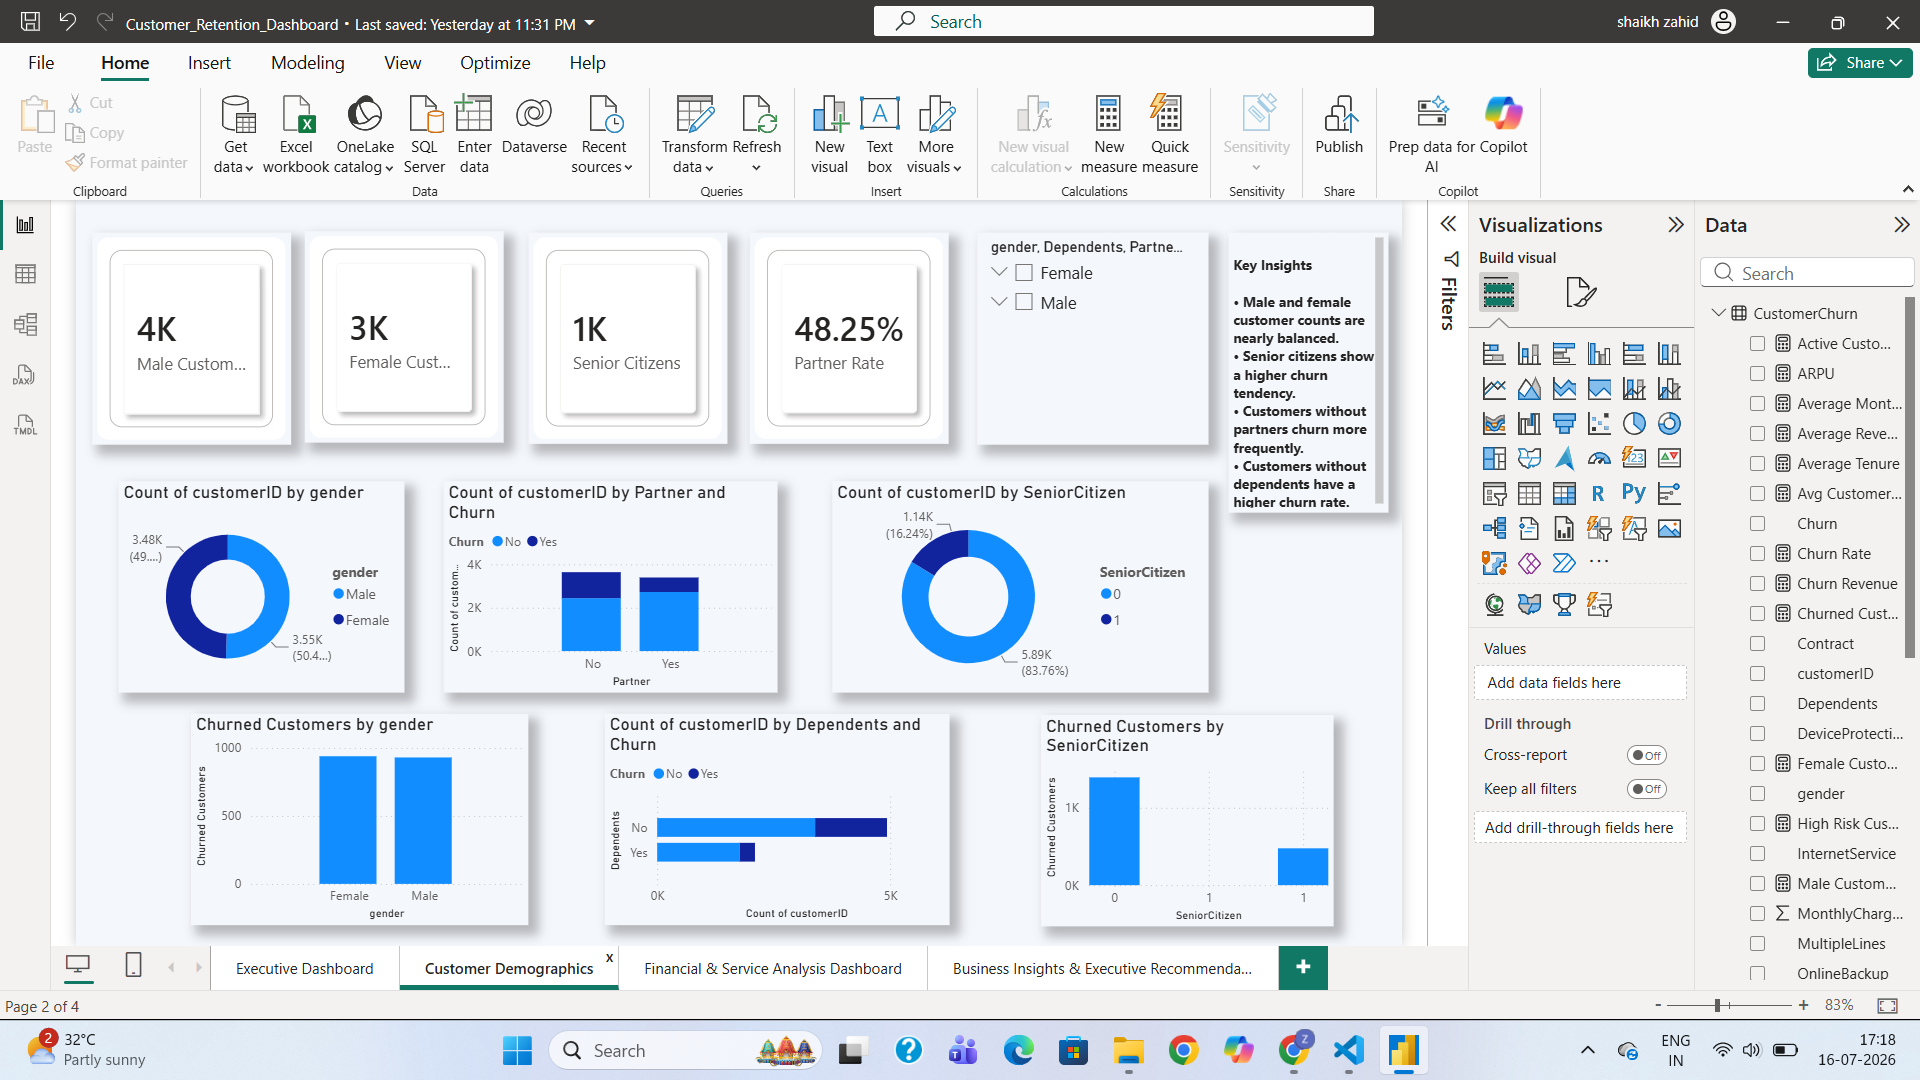

Layout of this report page (visuals, bound fields, positions):
{"tool":"powerbi","page":{"name":"Customer Demographics","canvas":[1280,720],"ordinal":1},"visuals":[{"type":"cardVisual","fields":{"Data":["CustomerChurn.Male Customers"]},"box":[14.7,30.6,192,204.2],"z":0},{"type":"cardVisual","fields":{"Data":["CustomerChurn.Female Customers"]},"box":[221.3,30.6,192,204.2],"z":1000},{"type":"cardVisual","fields":{"Data":["CustomerChurn.Senior Citizens"]},"box":[436.6,31.8,192,204.2],"z":2000},{"type":"cardVisual","fields":{"Data":["CustomerChurn.Partner Rate"]},"box":[650.5,31.8,192,204.2],"z":3000},{"type":"donutChart","fields":{"Category":["CustomerChurn.gender"],"Y":["CountNonNull(CustomerChurn.customerID)"]},"box":[41,271.4,276.3,203.9],"z":4000},{"type":"clusteredColumnChart","fields":{"Category":["CustomerChurn.gender"],"Y":["CustomerChurn.Churned Customers"]},"box":[111.3,495.2,325.3,204.2],"z":5000},{"type":"columnChart","fields":{"Category":["CustomerChurn.Partner"],"Series":["CustomerChurn.Churn"],"Y":["CountNonNull(CustomerChurn.customerID)"]},"box":[354.7,271.4,322.1,203.9],"z":6000},{"type":"barChart","fields":{"Category":["CustomerChurn.Dependents"],"Series":["CustomerChurn.Churn"],"Y":["CountNonNull(CustomerChurn.customerID)"]},"box":[509.9,495.2,332.6,204.2],"z":7000},{"type":"donutChart","fields":{"Category":["CustomerChurn.SeniorCitizen"],"Y":["CountNonNull(CustomerChurn.customerID)"]},"box":[729.9,271.4,363.1,203.9],"z":8000},{"type":"clusteredColumnChart","fields":{"Category":["CustomerChurn.SeniorCitizen"],"Y":["CustomerChurn.Churned Customers"]},"box":[931.8,496.5,282.5,204.2],"z":9000},{"type":"slicer","fields":{"Values":["CustomerChurn.gender","CustomerChurn.Dependents","CustomerChurn.Partner","CustomerChurn.SeniorCitizen"]},"box":[869.8,31.4,223.2,205.1],"z":9001},{"type":"textbox","box":[1112.3,31.4,154.4,270.2],"z":9002}]}

Visuals, with their boxes on the page's 1280x720 design canvas (x1, y1, x2, y2). These are canvas units, not pixel positions in the 1920x1080 screenshot, which may show the page scaled, cropped or inside an application window:
cardVisual - CustomerChurn.Male Customers: Rect(15, 31, 207, 235)
cardVisual - CustomerChurn.Female Customers: Rect(221, 31, 413, 235)
cardVisual - CustomerChurn.Senior Citizens: Rect(437, 32, 629, 236)
cardVisual - CustomerChurn.Partner Rate: Rect(650, 32, 842, 236)
donutChart - CustomerChurn.gender x CountNonNull(CustomerChurn.customerID): Rect(41, 271, 317, 475)
clusteredColumnChart - CustomerChurn.gender x CustomerChurn.Churned Customers: Rect(111, 495, 437, 699)
columnChart - CustomerChurn.Partner x CustomerChurn.Churn: Rect(355, 271, 677, 475)
barChart - CustomerChurn.Dependents x CustomerChurn.Churn: Rect(510, 495, 842, 699)
donutChart - CustomerChurn.SeniorCitizen x CountNonNull(CustomerChurn.customerID): Rect(730, 271, 1093, 475)
clusteredColumnChart - CustomerChurn.SeniorCitizen x CustomerChurn.Churned Customers: Rect(932, 496, 1214, 701)
slicer - CustomerChurn.gender x CustomerChurn.Dependents: Rect(870, 31, 1093, 236)
textbox: Rect(1112, 31, 1267, 302)
